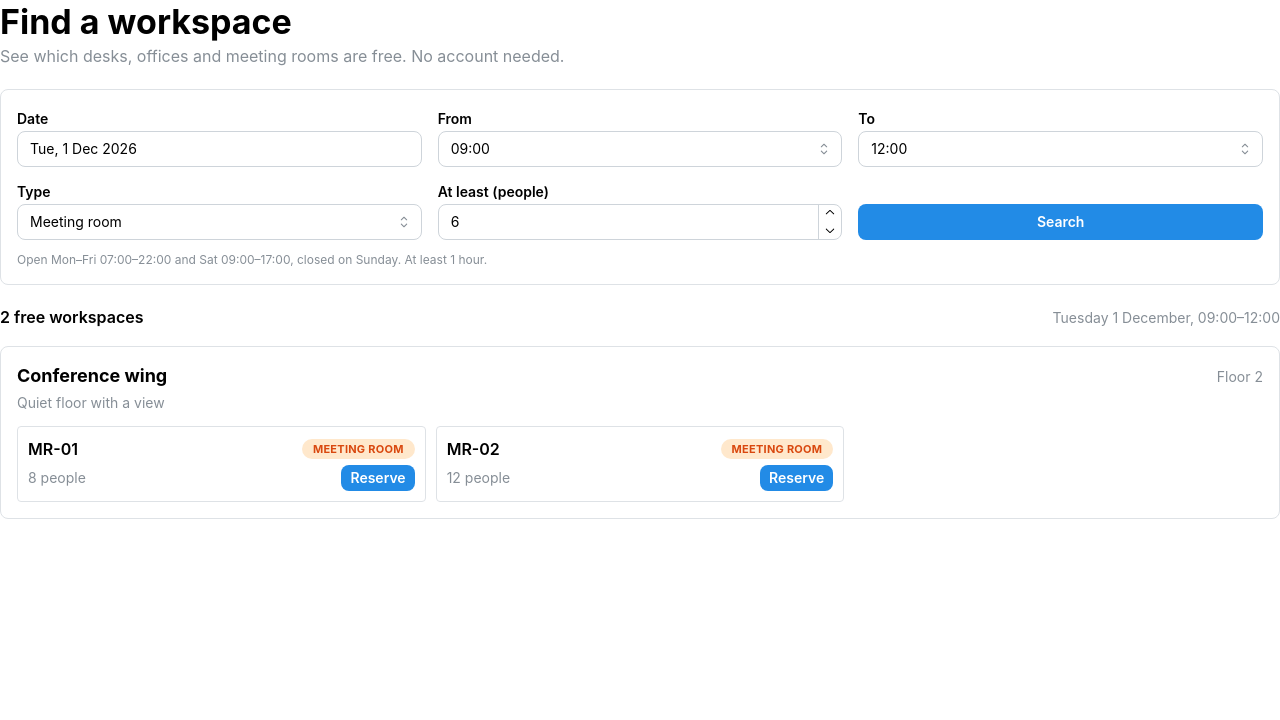
Test: AvailabilityPage › offers buying a membership when the member has none for that date (BR02)
Click the button with aria-label "Reserve MR-01" at [378, 478], box [341,465,415,491]
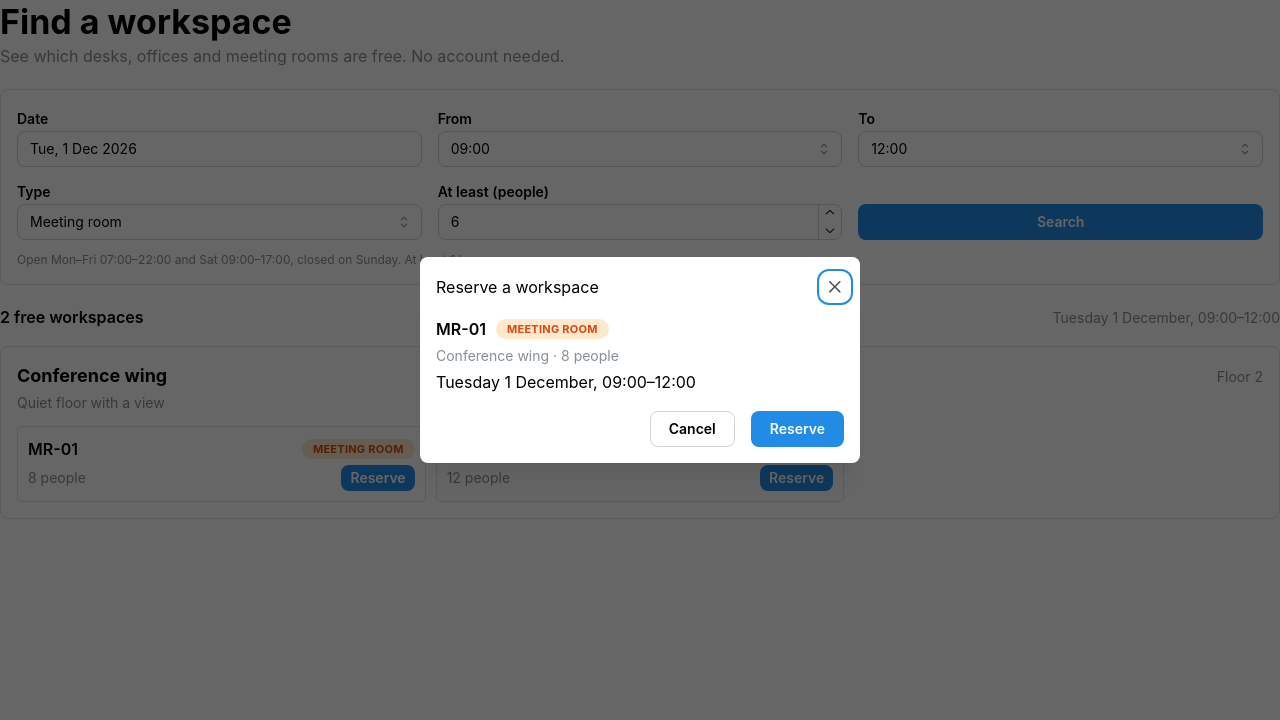
Click the button "Reserve" at [797, 429], box [751,411,844,447]
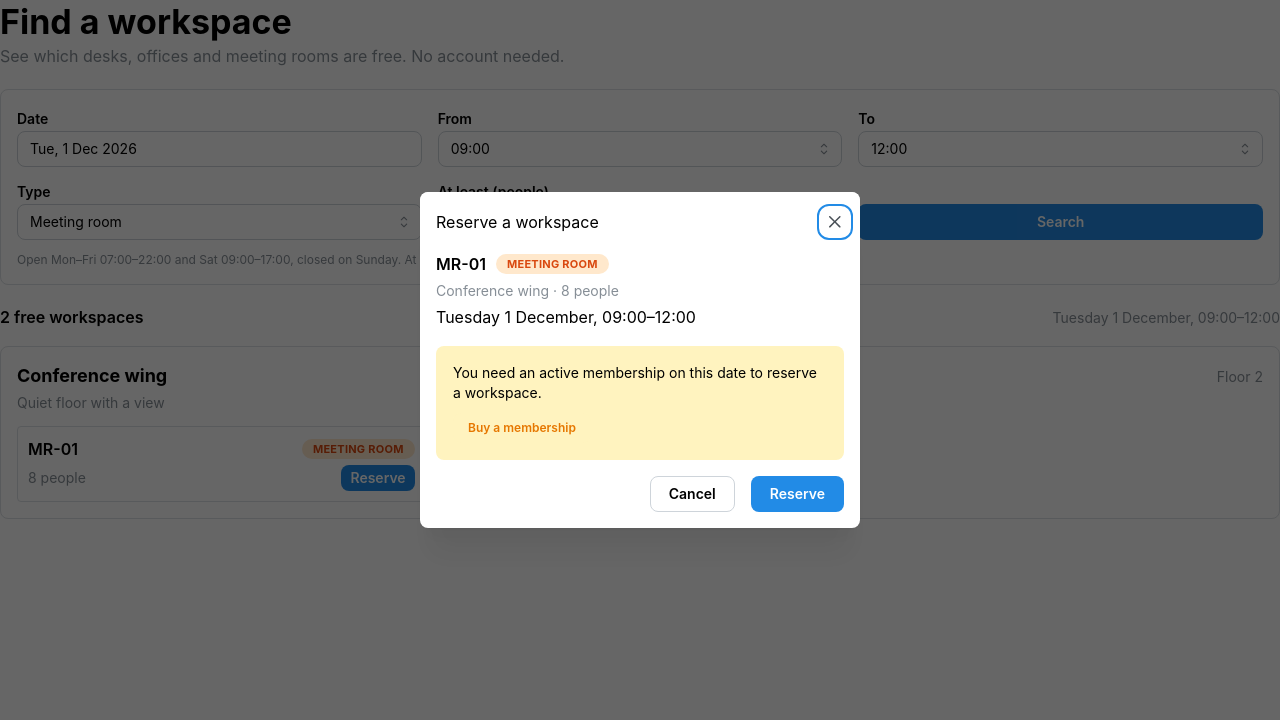
Result: the text "You need an active membership" is shown at [453,364,817,401]
